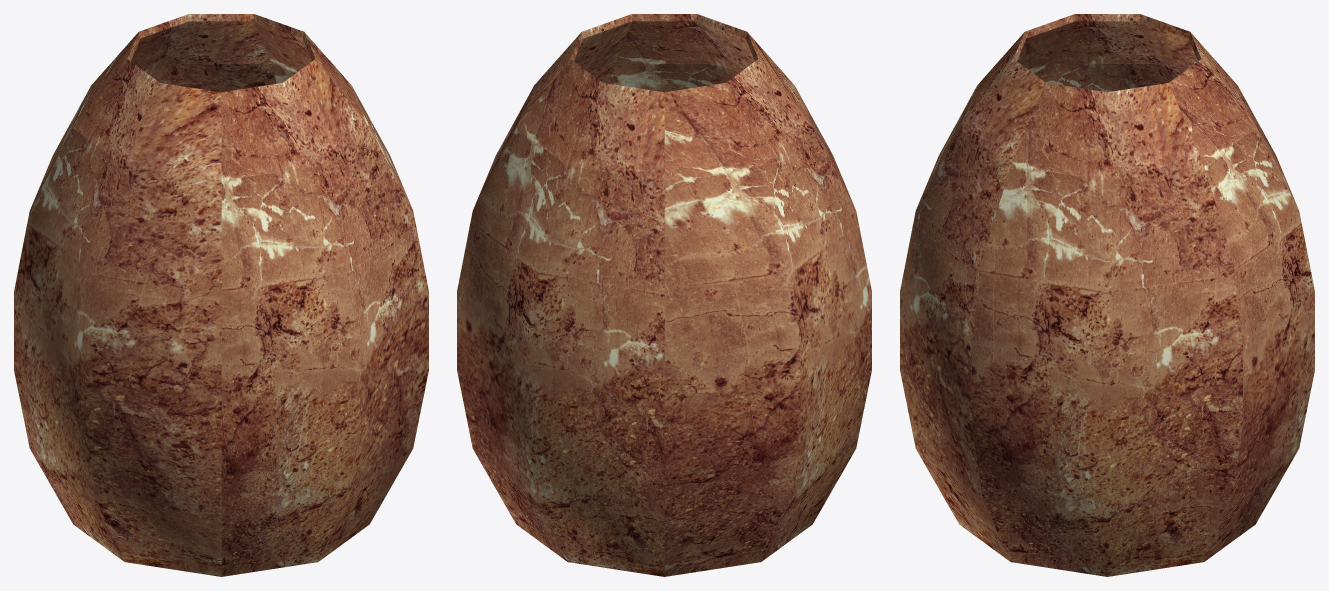
Rendered from pot2.FBX.
The picture shows the model from 3 angles, left to right: view 1: azimuth 30°, elevation 25°; view 2: azimuth 150°, elevation 25°; view 3: azimuth 270°, elevation 25°; orthographic projection.
Visible parts, largest first — view 1: pot2; view 2: pot2; view 3: pot2.
Boxes of the visible parts, left/top/right/bottom form: pot2: left=14, top=14, right=428, bottom=576; pot2: left=457, top=14, right=871, bottom=576; pot2: left=900, top=14, right=1314, bottom=576.
Bounding box in the file's own units: 27.01 × 33.66 × 27.42.
1 material, 1 textured.
